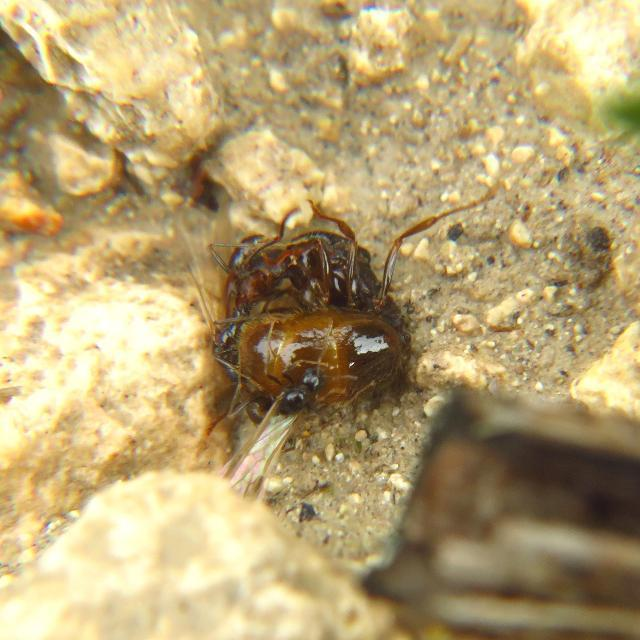Apheanogaster: (203, 200, 434, 372)
